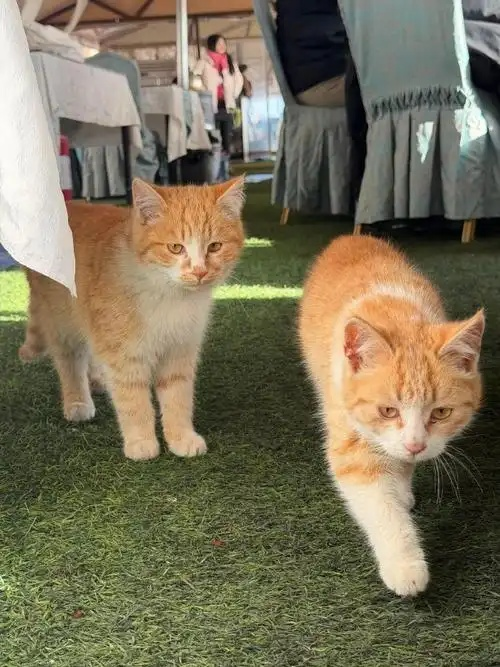橘猫: (299, 235, 483, 596), (19, 177, 243, 458)
